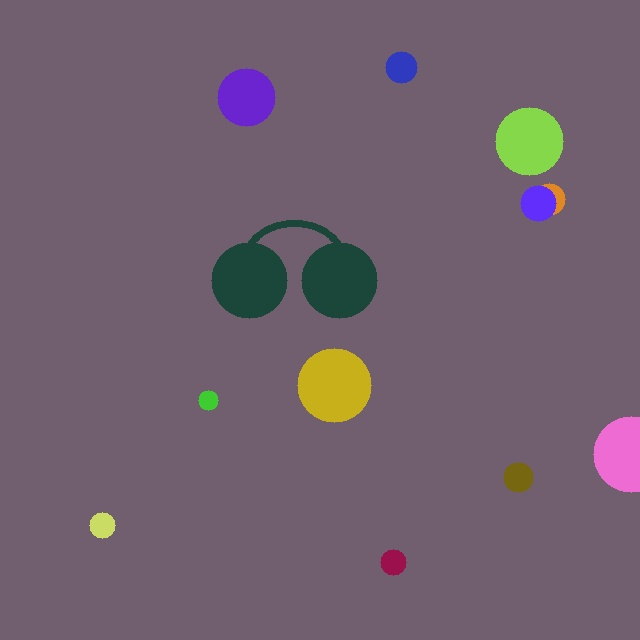over_ear: (207, 212, 381, 322)
